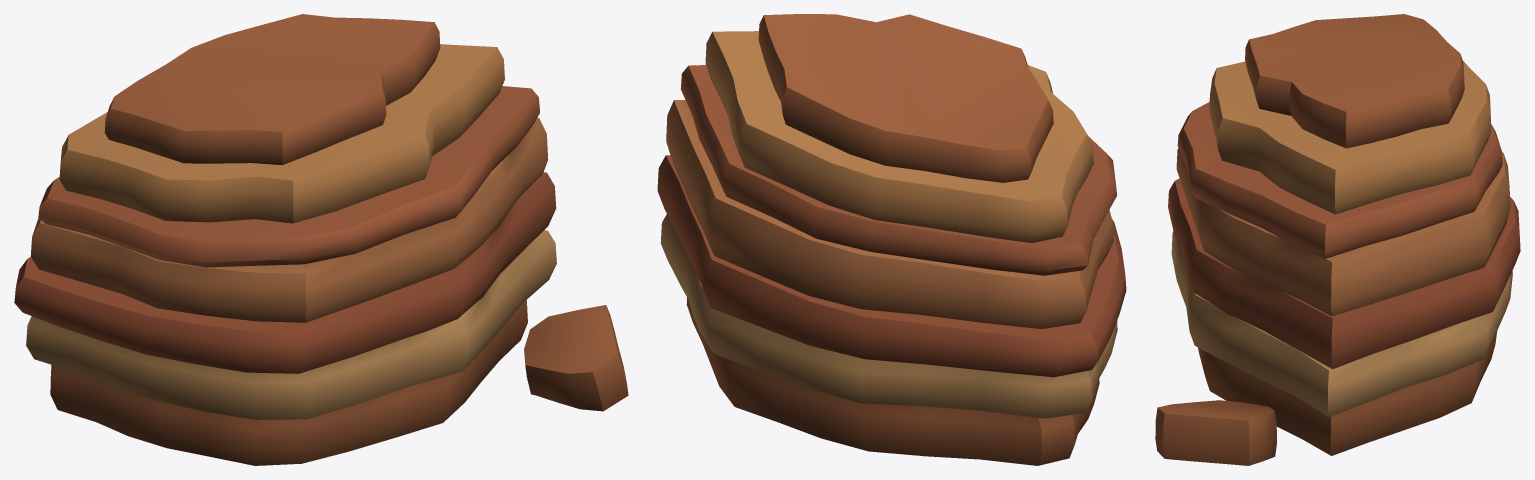
File: desert_rock_a.glb
The picture shows the model from 3 angles, left to right: view 1: azimuth 30°, elevation 25°; view 2: azimuth 150°, elevation 25°; view 3: azimuth 270°, elevation 25°; orthographic projection. The views are drawn at different scales.
Visible parts, largest first — view 1: desert_rock_a; view 2: desert_rock_a; view 3: desert_rock_a.
Boxes of the visible parts, x1,y1,x2,y2 form: desert_rock_a: [14, 14, 628, 465]; desert_rock_a: [657, 14, 1126, 465]; desert_rock_a: [1155, 14, 1520, 465].
Size of the model in its own units: 2.36 by 1.48 by 1.58.
